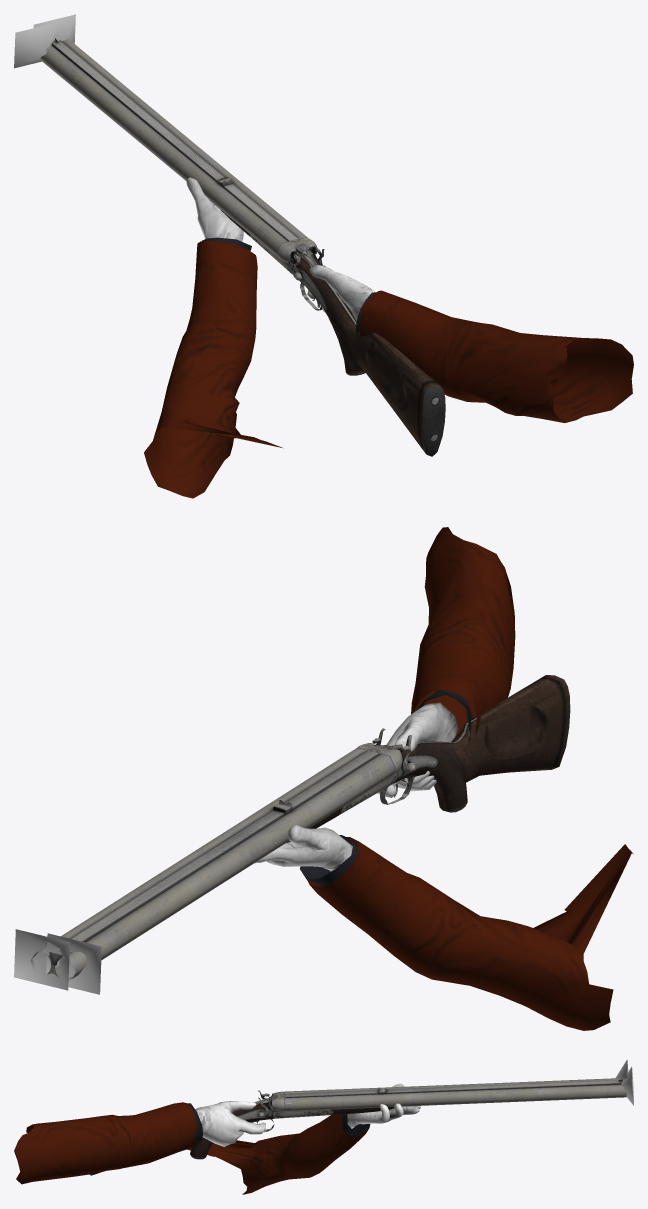
The model's file is frame_6.obj.
3 views of the same model, one above another, from view 1: azimuth 30°, elevation 25°; view 2: azimuth 150°, elevation 25°; view 3: azimuth 270°, elevation 25° (orthographic). The views are drawn at different scales.
Parts seen in each view (by area): view 1: PlayerModelMerged.001_PlayerModelMerged, double_-_barreled_shotgun_L_double_-_barreled_shotgun_LP_к.002, double_-_barreled_shotgun_L_double_-_barreled_shotgun_LP_к.001, Plane; view 2: PlayerModelMerged.001_PlayerModelMerged, double_-_barreled_shotgun_L_double_-_barreled_shotgun_LP_к.002, double_-_barreled_shotgun_L_double_-_barreled_shotgun_LP_к.001, Plane.001, Plane; view 3: PlayerModelMerged.001_PlayerModelMerged, double_-_barreled_shotgun_L_double_-_barreled_shotgun_LP_к.002, double_-_barreled_shotgun_L_double_-_barreled_shotgun_LP_к.001, Plane.001.
Boxes of the visible parts, box(x1,y1,x2,y2) form: PlayerModelMerged.001_PlayerModelMerged: box(144, 177, 633, 498); double_-_barreled_shotgun_L_double_-_barreled_shotgun_LP_к.002: box(40, 38, 306, 256); double_-_barreled_shotgun_L_double_-_barreled_shotgun_LP_к.001: box(221, 210, 445, 456); Plane: box(14, 22, 57, 68); PlayerModelMerged.001_PlayerModelMerged: box(254, 527, 633, 1030); double_-_barreled_shotgun_L_double_-_barreled_shotgun_LP_к.002: box(30, 748, 394, 979); double_-_barreled_shotgun_L_double_-_barreled_shotgun_LP_к.001: box(286, 675, 570, 842); Plane.001: box(14, 929, 69, 990); Plane: box(46, 933, 101, 994); PlayerModelMerged.001_PlayerModelMerged: box(14, 1083, 420, 1194); double_-_barreled_shotgun_L_double_-_barreled_shotgun_LP_к.002: box(285, 1078, 626, 1111); double_-_barreled_shotgun_L_double_-_barreled_shotgun_LP_к.001: box(89, 1090, 394, 1175); Plane.001: box(621, 1066, 633, 1105).
Size of the model in its own units: 0.8331 by 0.6044 by 2.02.
